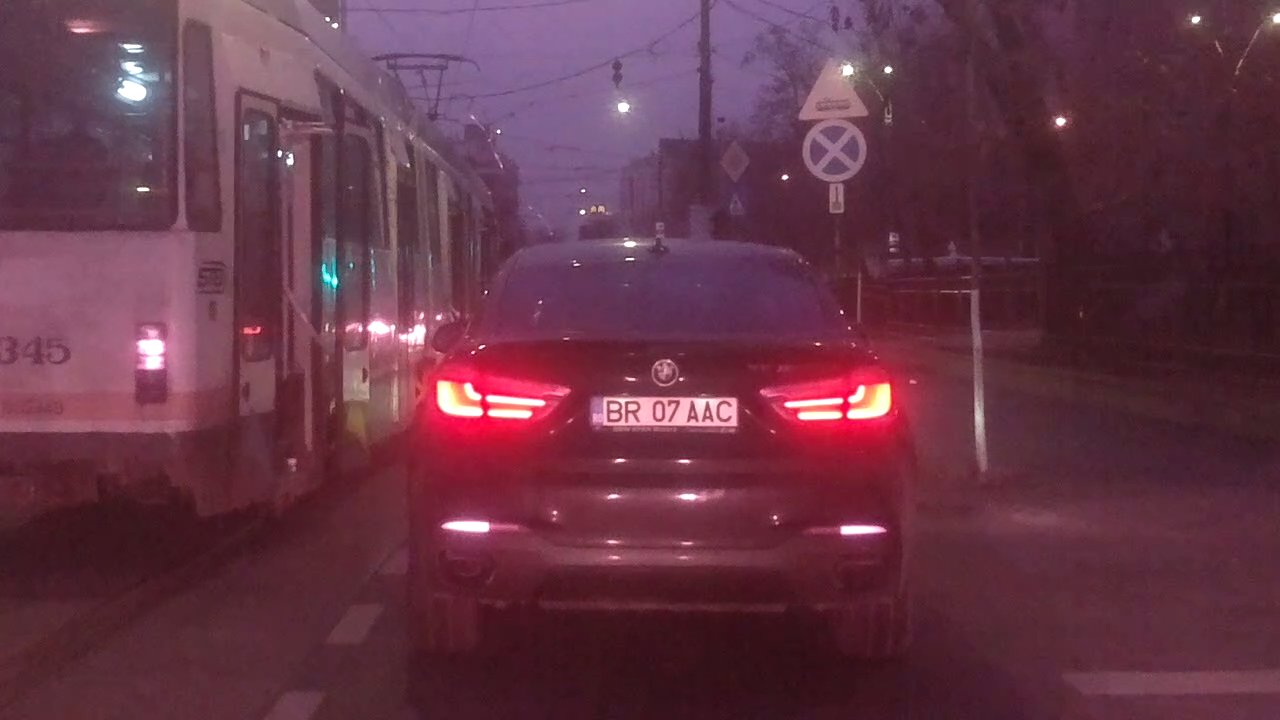license-plate: (587, 391, 741, 429)
